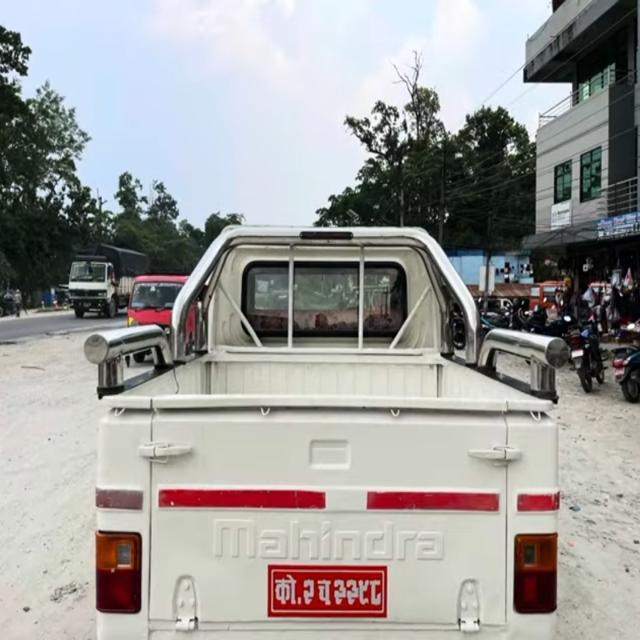license_plate: (241, 563, 413, 618)
